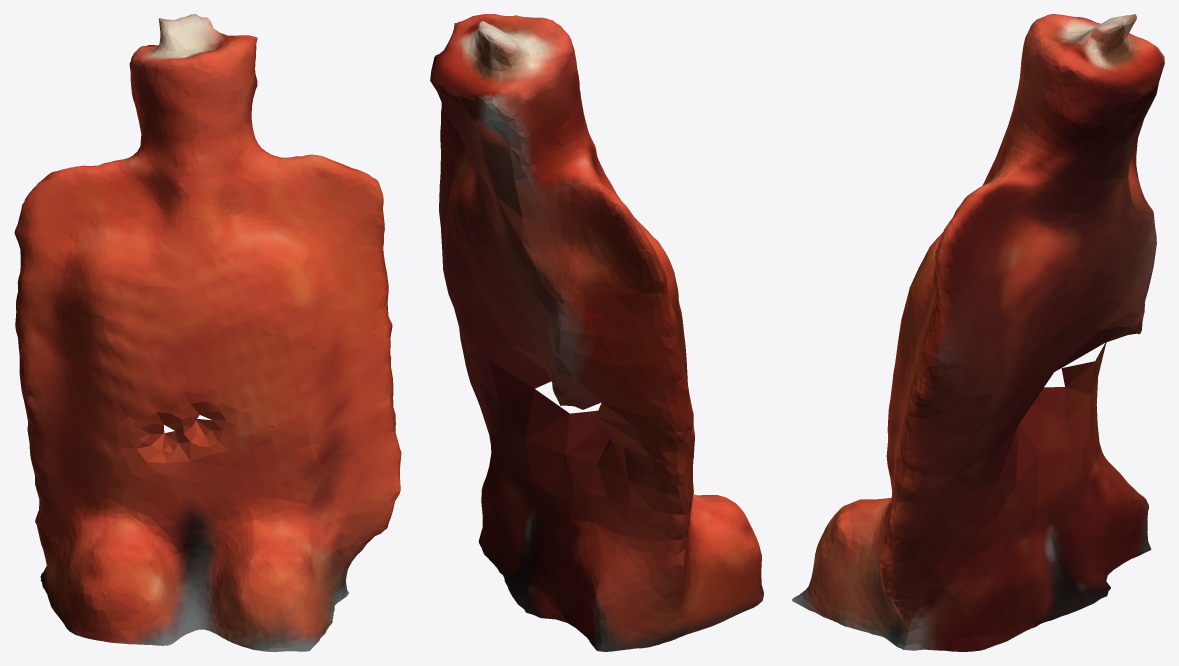
The model's file is Waermflasche.glb.
3 views of the same model, side by side, from view 1: azimuth 30°, elevation 25°; view 2: azimuth 150°, elevation 25°; view 3: azimuth 270°, elevation 25° (orthographic). The views are drawn at different scales.
Visible parts, largest first — view 1: mesh.023; view 2: mesh.023; view 3: mesh.023.
Part boxes in pixels (bbox=[...]): mesh.023: bbox=[14, 14, 401, 651]; mesh.023: bbox=[430, 14, 763, 651]; mesh.023: bbox=[792, 14, 1164, 651].
Bounding box in the file's own units: 0.2229 × 0.3696 × 0.2109.
Materials: 1 (1 with a texture image).
